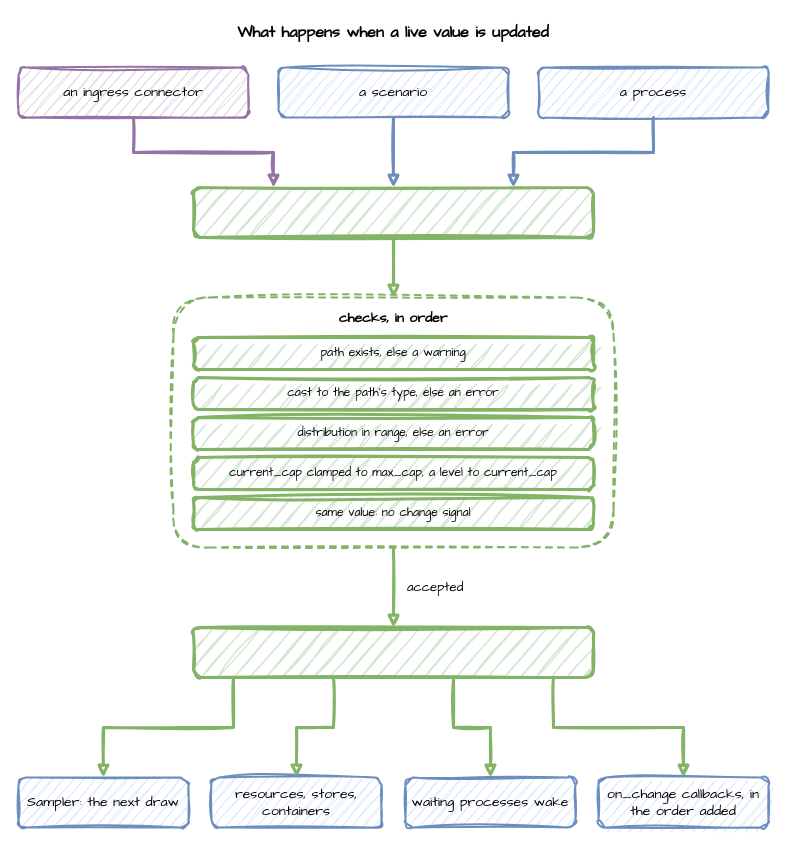
The diagram is 786 pixels wide and 845 high, and some of its shapes have lost their labels. The centre of each missing label's shape, as x and y in pixels:
"registry.update(path, value)" goes at point (393, 212).
"stores the value and updates the parameter's config" goes at point (393, 652).
